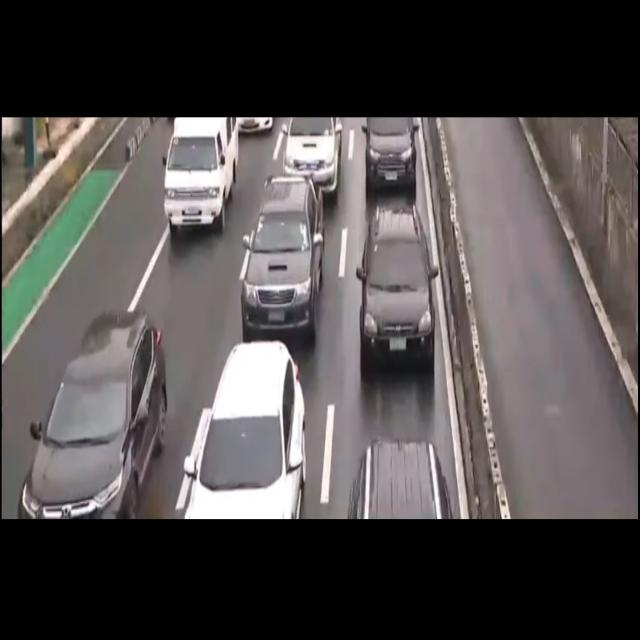Pick-up: (162, 116, 240, 234)
SUV: (17, 306, 166, 516), (176, 341, 306, 518), (240, 172, 325, 336), (355, 201, 436, 363), (338, 445, 451, 514), (283, 114, 340, 196), (364, 118, 418, 198)
